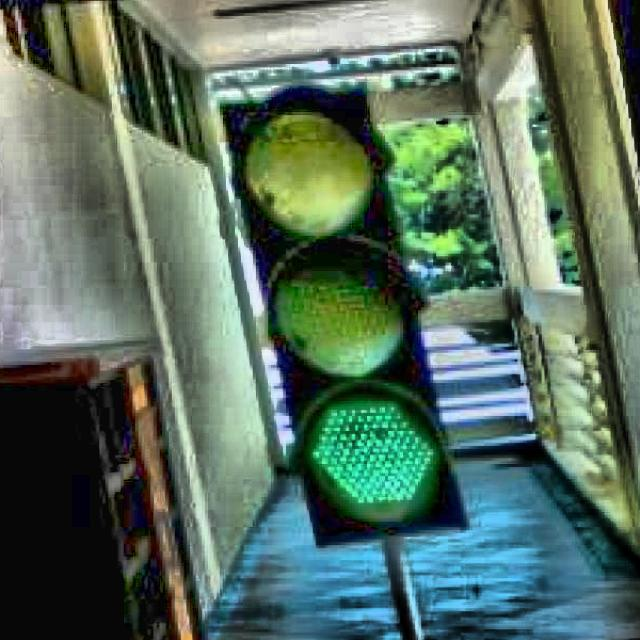green: (247, 83, 468, 553)
